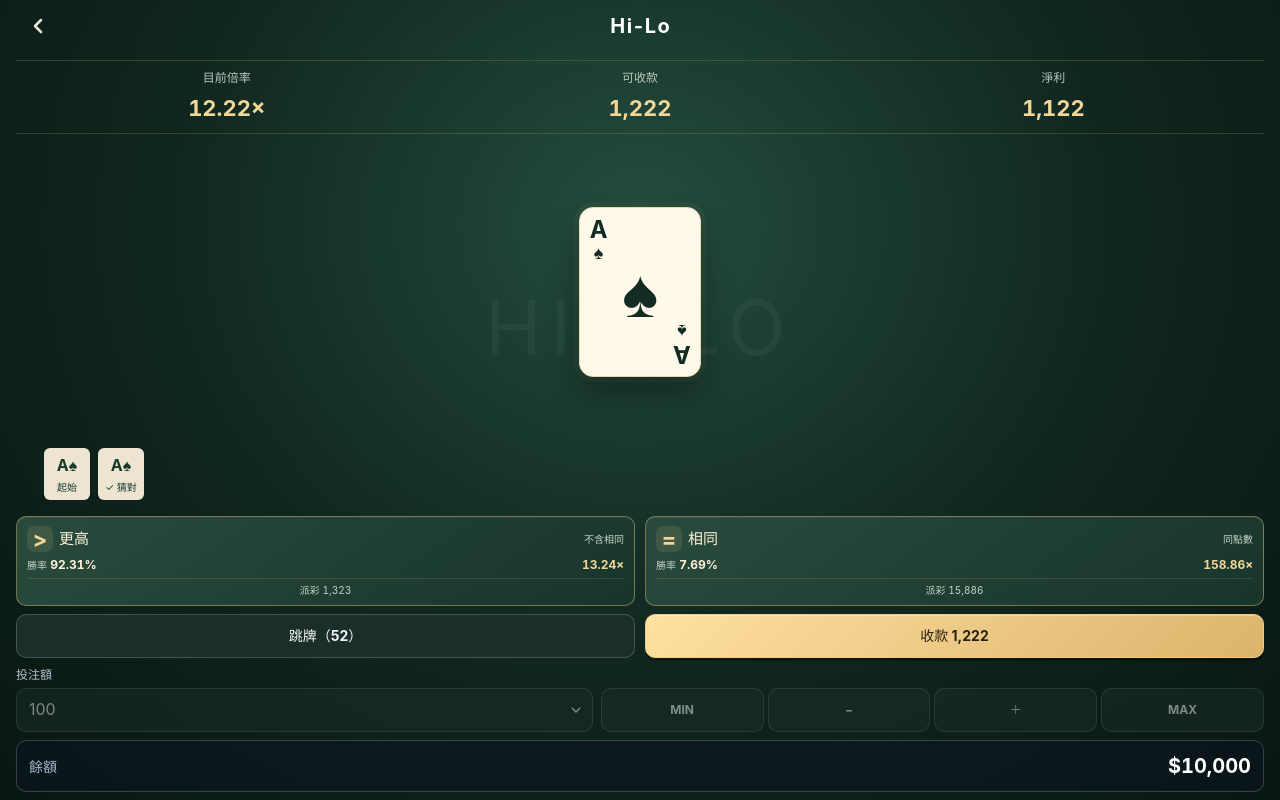
Test: Hi-Lo win celebration › does not celebrate settlement restored after a lost response or replay it on reconnect
What coordinates should you click on to do the following:
click the button "收款 1,222"
I would click on:
 (954, 636)
Its box is [645,614,1264,658].
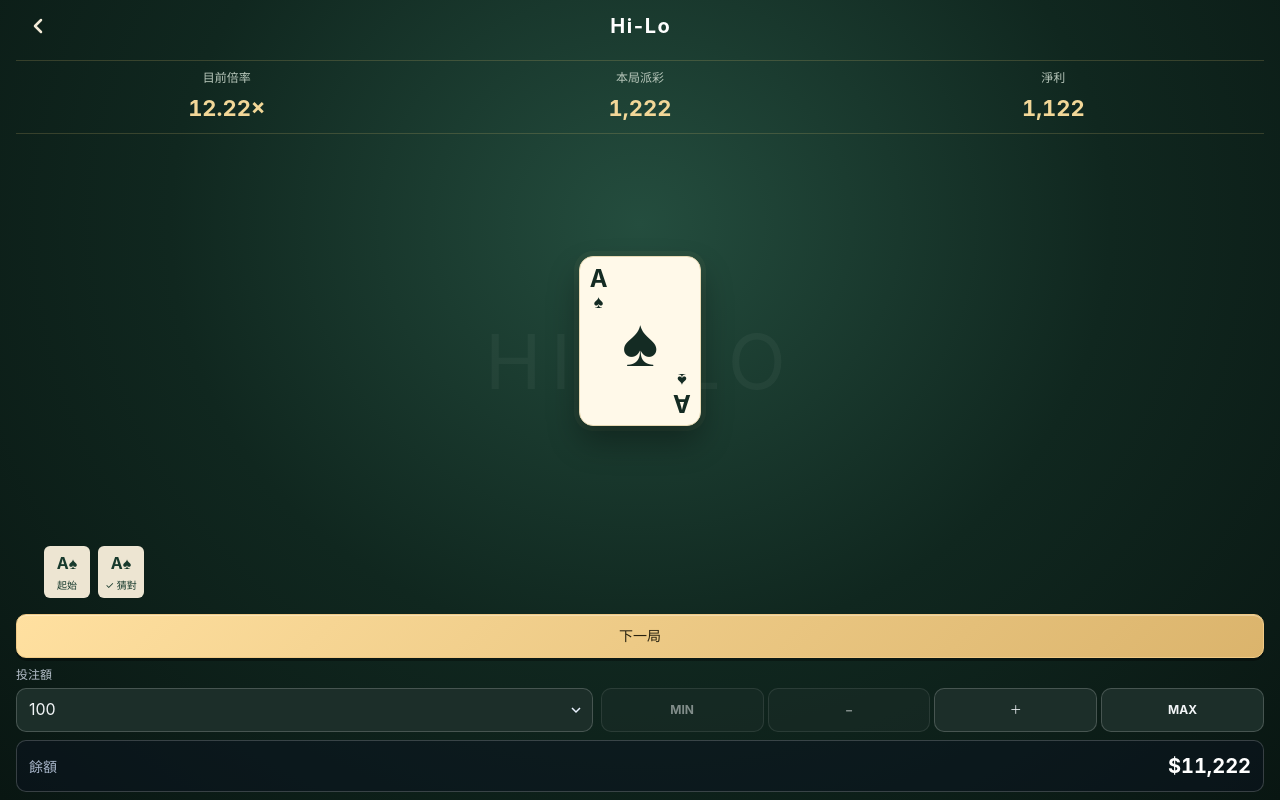
Expected: the button with class "next-round" is shown, [16,614,1264,658]
